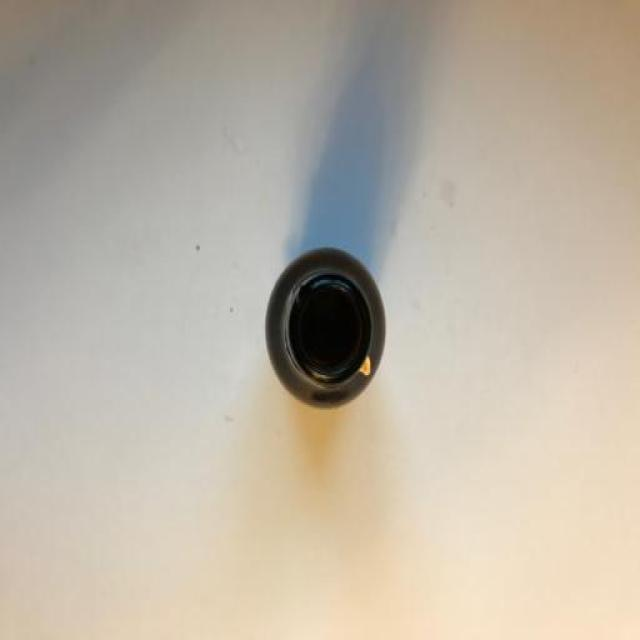glass: (267, 246, 389, 412)
